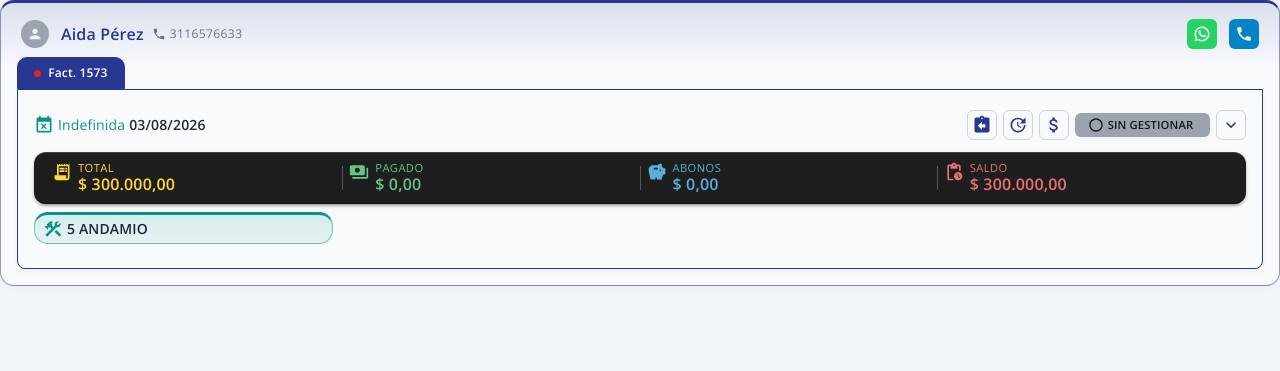
it: ClienteSeguimientoCard — lo que muestra › el equipo sin fecha de entrega dice cuando se pacto
What coordinates should you click on to do the following:
click the button named "Mostrar factura"
I would click on:
 (1231, 125)
Its box is [1216, 110, 1246, 140].
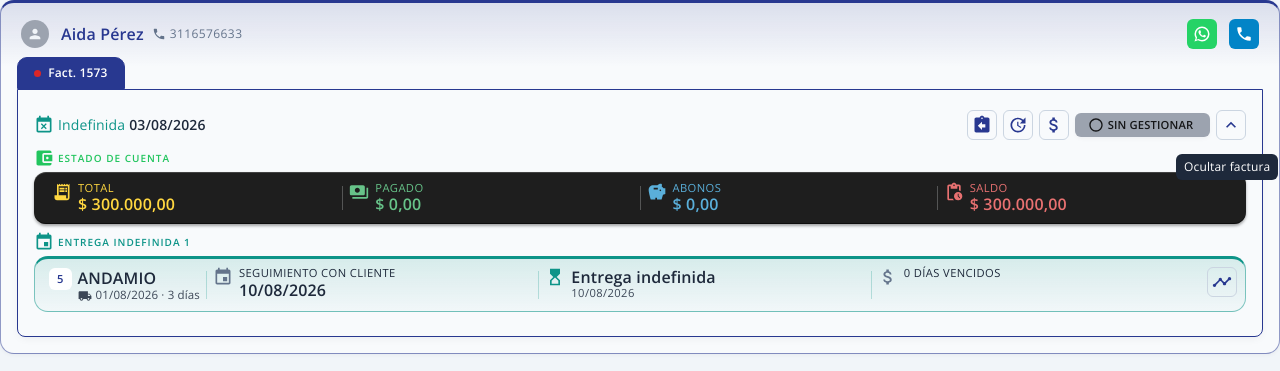
Check: the text "Entrega indefinida" is shown, box [571, 267, 716, 287]
Check: the text "10/08/2026" is shown 2 times, box [239, 279, 326, 301]; [571, 285, 635, 300]
Check: the text "Seguimiento con cliente" is shown, box [239, 267, 396, 280]
